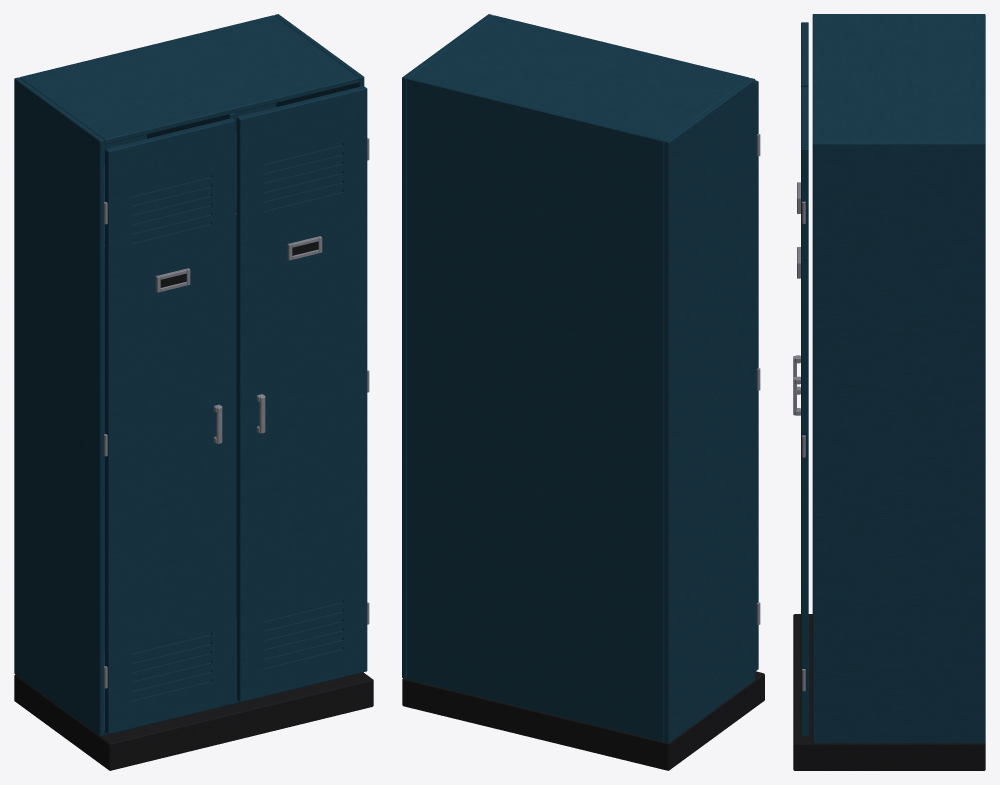
File: staff_lockers.glb
3 views of the same model, side by side, from view 1: azimuth 30°, elevation 25°; view 2: azimuth 150°, elevation 25°; view 3: azimuth 270°, elevation 25° (orthographic).
Visible parts, largest first — view 1: staff_lockers.001, door_right, door_left; view 2: staff_lockers.001, door_left; view 3: staff_lockers.001, door_right, door_left.
Part boxes in pixels (x1,y1,x2,y2): staff_lockers.001: (14,14,373,770); door_right: (236,86,369,702); door_left: (104,118,235,734); staff_lockers.001: (402,14,764,770); door_left: (755,80,760,671); staff_lockers.001: (793,14,985,770); door_right: (793,87,808,736); door_left: (793,22,808,394).
Size of what is drawn, in the model's own units: 0.8 by 1.8 by 0.5.
3 materials, 3 textured.
